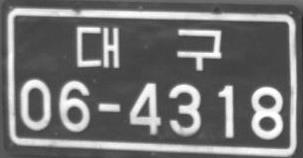0: (19, 78, 52, 132)
1: (213, 84, 243, 139)
3: (168, 82, 202, 137)
4: (129, 83, 161, 135)
6: (58, 79, 90, 132)
8: (250, 86, 284, 140)
대구_D: (76, 25, 222, 72)
